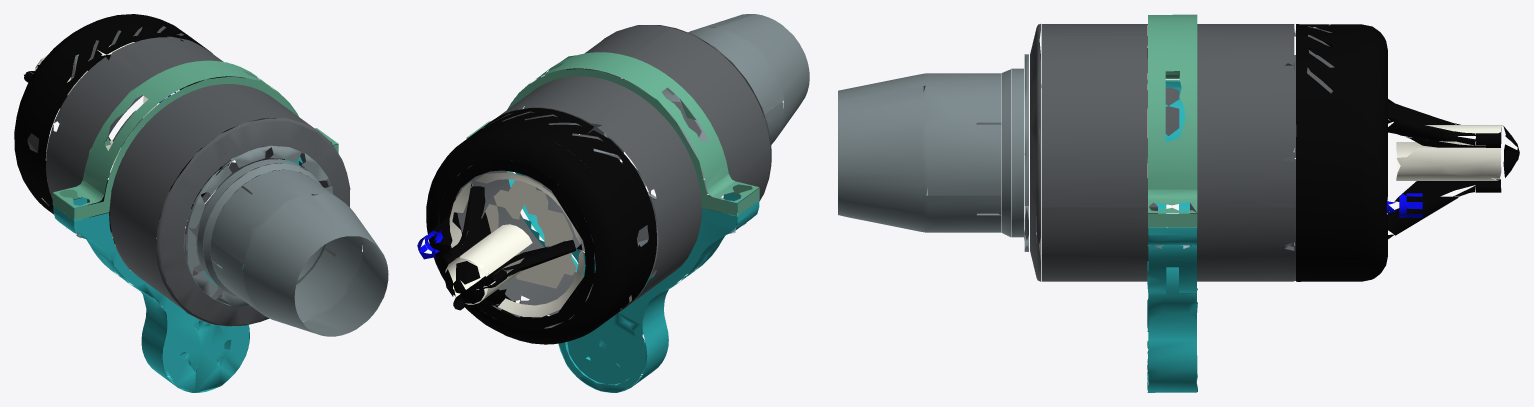
File: sim_sea_r_jet_turbine.obj
3 renders of one model, left to right at view 1: azimuth 30°, elevation 25°; view 2: azimuth 150°, elevation 25°; view 3: azimuth 270°, elevation 25°, orthographic. The views are drawn at different scales.
Bounding box in the file's own units: 166 × 188 × 322.
